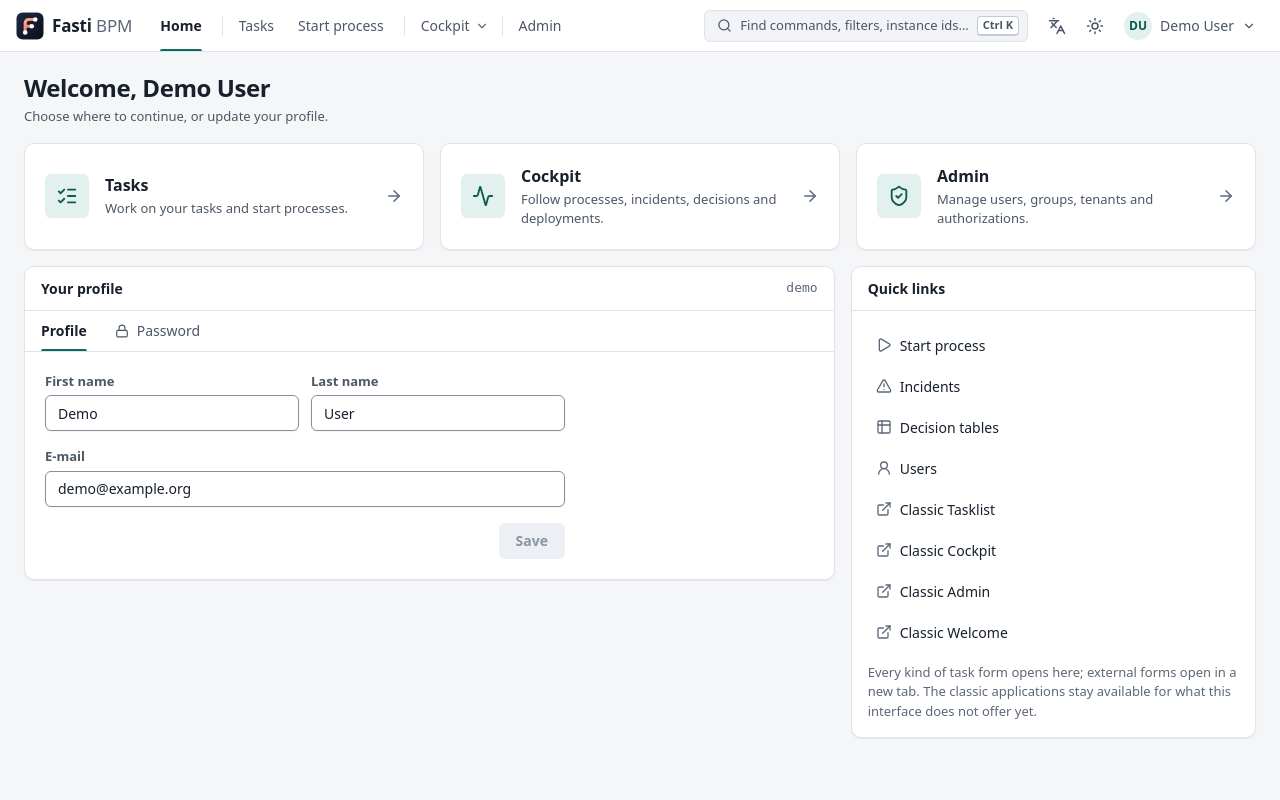
Test case: welcome page › saves the own profile and shows the new name
This screenshot has width=1280, height=800.
Replace the text in the field labelled "First name" with "Dana" at (172, 413), box [45,395,299,431]
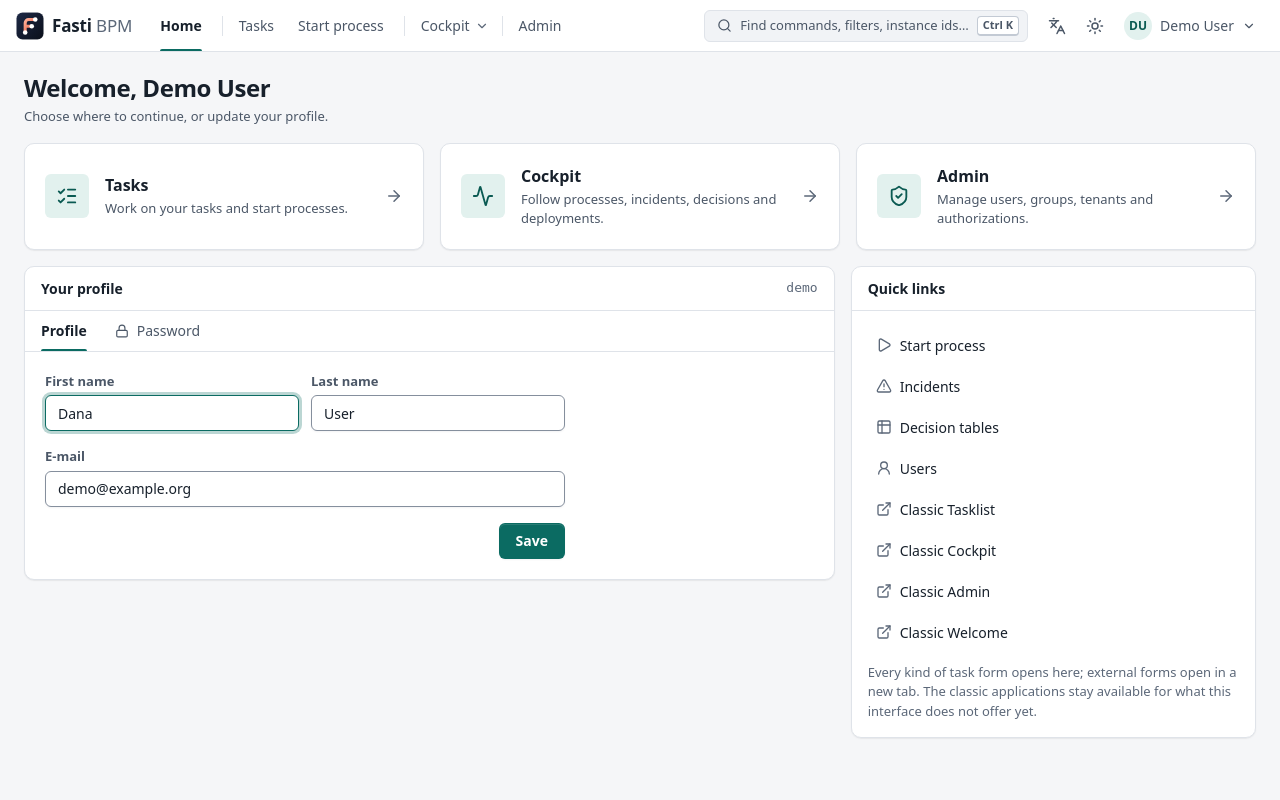
Click the button "Save" at (532, 541), box [499,523,565,559]
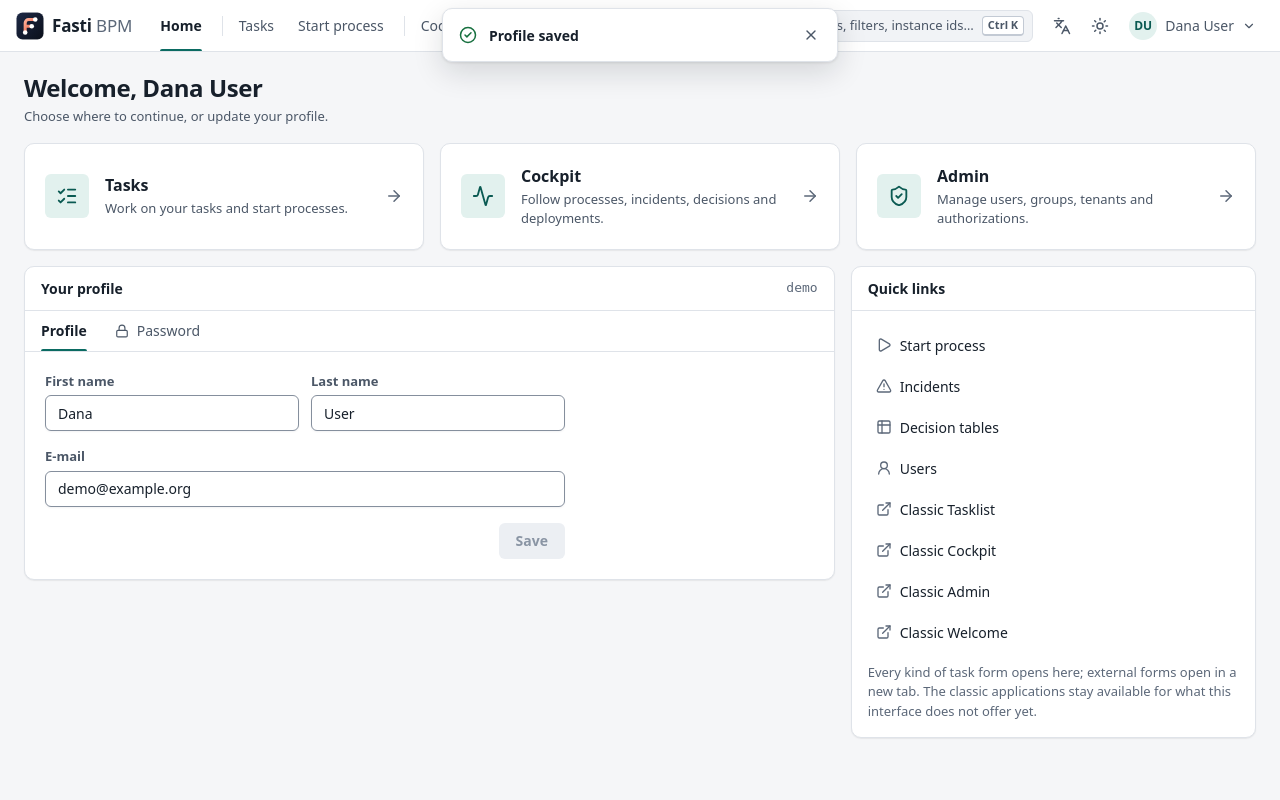
Expected: the text "Profile saved" is shown, [489,26,579,44]
Expected: the heading "Welcome, Dana User" is shown, [24,72,262,103]
